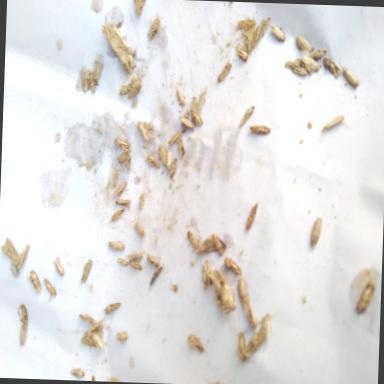pbw: (240, 330, 259, 362), (42, 277, 64, 303), (338, 64, 361, 88), (320, 56, 342, 80), (237, 102, 254, 132), (321, 114, 346, 134), (220, 256, 244, 276), (145, 14, 161, 44), (77, 257, 92, 288), (244, 200, 258, 232), (308, 216, 322, 248), (148, 262, 165, 288), (237, 277, 250, 310), (209, 234, 228, 256), (301, 52, 319, 72), (187, 334, 207, 352), (216, 60, 230, 85), (295, 32, 312, 52), (246, 124, 270, 138), (136, 120, 150, 144), (28, 269, 42, 291), (156, 146, 170, 168), (308, 46, 327, 62), (198, 236, 214, 255), (168, 127, 184, 146), (201, 259, 212, 286), (233, 43, 250, 60), (269, 23, 286, 40), (110, 180, 126, 198), (92, 330, 108, 348), (15, 302, 28, 324), (51, 255, 65, 274), (88, 71, 100, 93), (186, 229, 198, 251), (176, 85, 188, 107), (259, 15, 270, 39), (178, 115, 195, 130), (238, 16, 256, 30), (104, 301, 122, 315), (180, 107, 190, 131), (146, 152, 160, 169), (110, 206, 123, 224), (106, 238, 125, 250), (190, 110, 203, 127), (18, 324, 28, 346), (178, 138, 188, 158), (112, 136, 130, 147), (146, 251, 160, 265), (130, 248, 144, 262), (252, 25, 260, 49), (237, 332, 245, 356), (119, 81, 131, 96), (115, 330, 130, 342), (290, 66, 308, 76), (198, 91, 206, 113), (82, 70, 90, 92), (134, 222, 146, 236), (166, 147, 173, 171), (70, 364, 84, 376), (169, 158, 177, 178), (116, 150, 130, 161), (124, 147, 132, 166), (128, 260, 142, 270), (285, 61, 302, 69), (190, 96, 196, 118), (137, 192, 145, 208), (117, 256, 127, 264)
